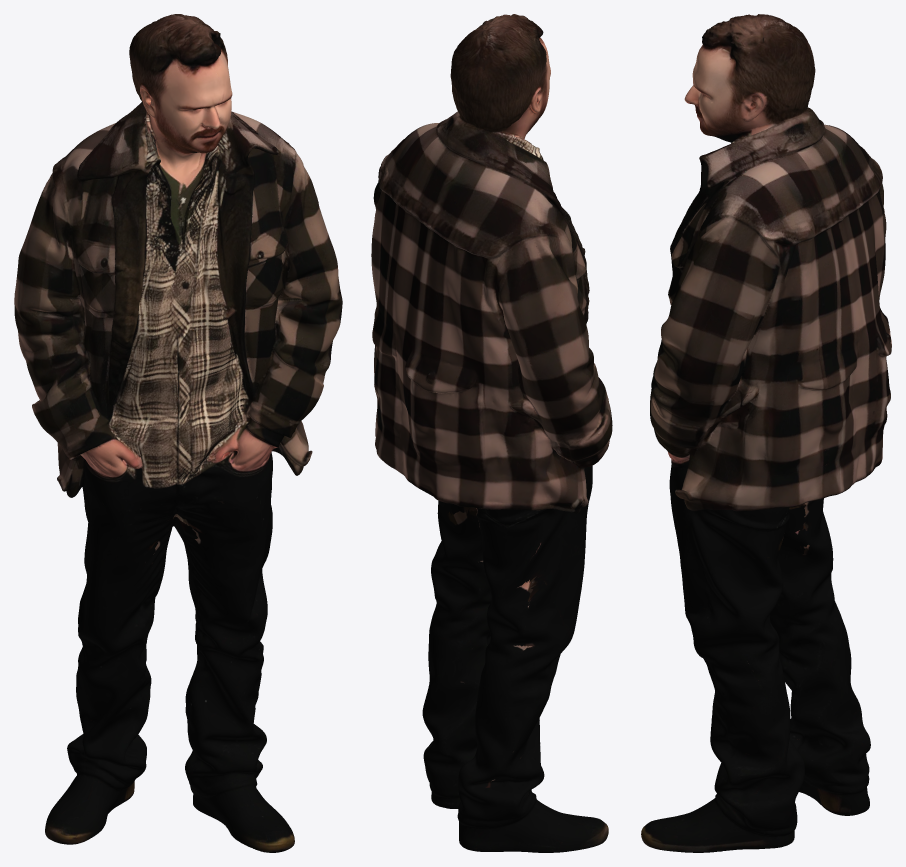
Rendered from jesse_pinkman_rugged_in_plaid.glb.
The picture shows the model from 3 angles, left to right: view 1: azimuth 30°, elevation 25°; view 2: azimuth 150°, elevation 25°; view 3: azimuth 270°, elevation 25°; orthographic projection. The views are drawn at different scales.
Parts seen in each view (by area): view 1: Object_5, Object_7, Object_6; view 2: Object_6, Object_5, Object_7; view 3: Object_5, Object_6, Object_7.
Boxes of the visible parts, bbox=[...] form: Object_5: bbox=[28, 14, 342, 852]; Object_7: bbox=[49, 14, 337, 830]; Object_6: bbox=[14, 16, 262, 844]; Object_6: bbox=[372, 28, 612, 852]; Object_5: bbox=[371, 18, 599, 852]; Object_7: bbox=[382, 14, 610, 758]; Object_5: bbox=[641, 15, 841, 852]; Object_6: bbox=[727, 14, 891, 846]; Object_7: bbox=[674, 14, 786, 852].
Size of the model in its own units: 0.6343 by 1.9 by 0.5391.
1 material, 1 textured.
